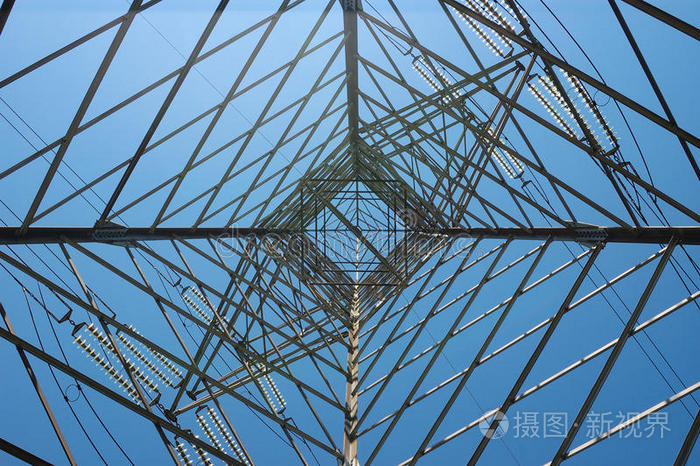insulator: (71, 324, 161, 402), (552, 67, 616, 154), (119, 322, 183, 385), (197, 404, 252, 466), (531, 75, 585, 134), (455, 1, 511, 54), (480, 123, 524, 176), (411, 57, 459, 102), (182, 288, 230, 329), (484, 1, 527, 31), (175, 434, 209, 466)
